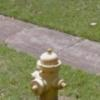a fire hydrant: (28, 48, 66, 100)
